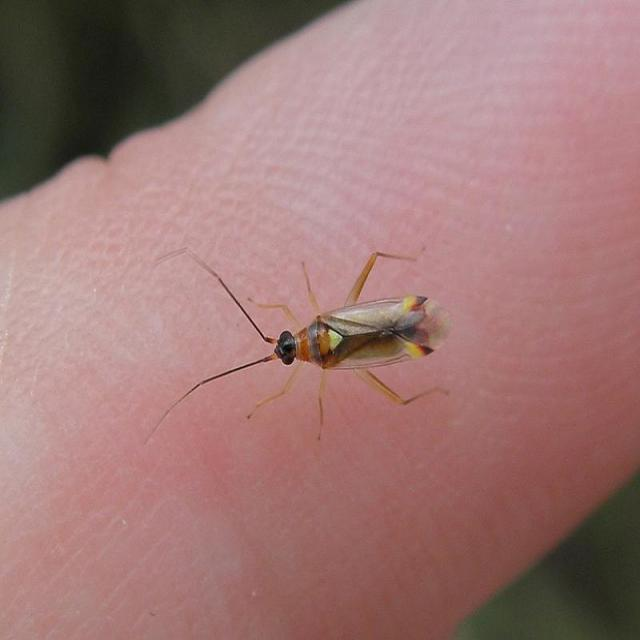Miridae-Adult-: (140, 240, 469, 470)
